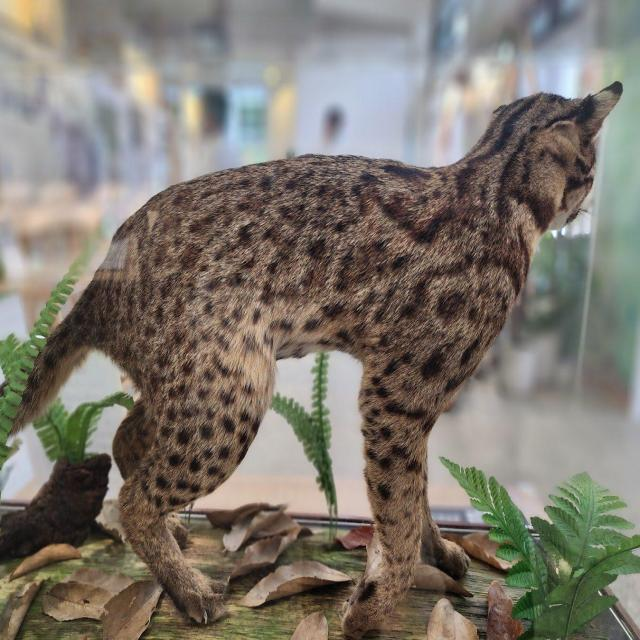leopard: (89, 133, 621, 512)
